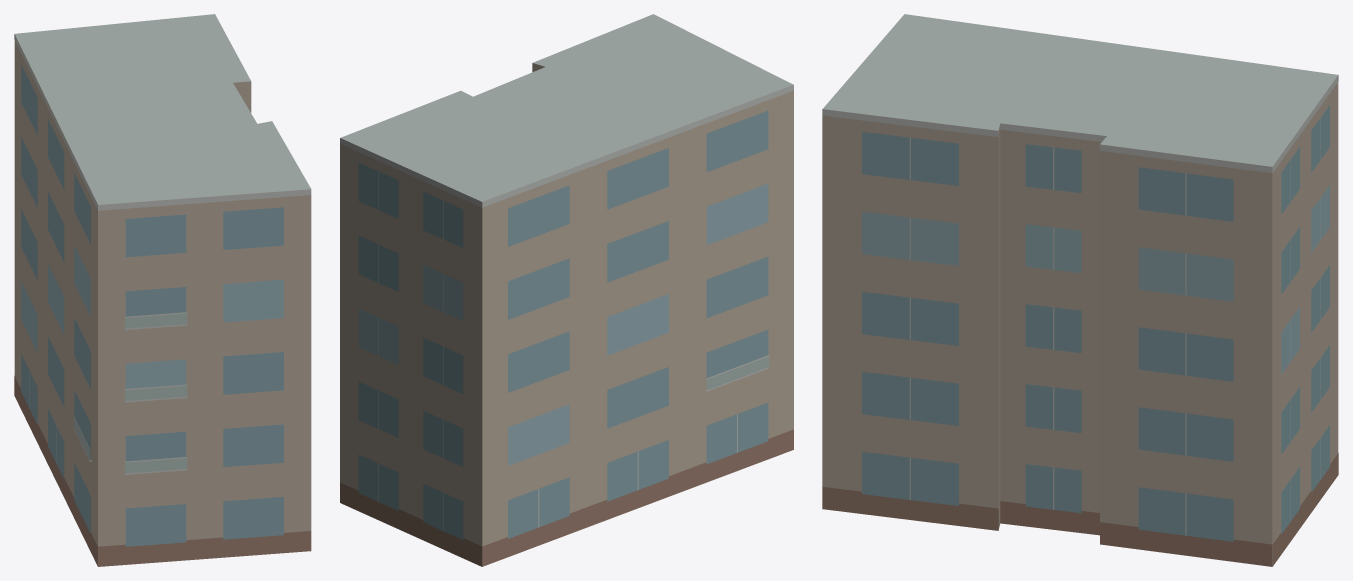
File: survey-upis-32536611.glb
3 renders of one model, left to right at view 1: azimuth 30°, elevation 25°; view 2: azimuth 150°, elevation 25°; view 3: azimuth 270°, elevation 25°, orthographic. The views are drawn at different scales.
Parts seen in each view (by area): view 1: survey-upis-32536611.tmp; view 2: survey-upis-32536611.tmp; view 3: survey-upis-32536611.tmp.
Part boxes in pixels (x1,y1,x2,y2): survey-upis-32536611.tmp: (14,14,311,566); survey-upis-32536611.tmp: (340,14,793,566); survey-upis-32536611.tmp: (822,14,1338,566).
Size of the model in its own units: 12.51 by 15.25 by 17.84.
